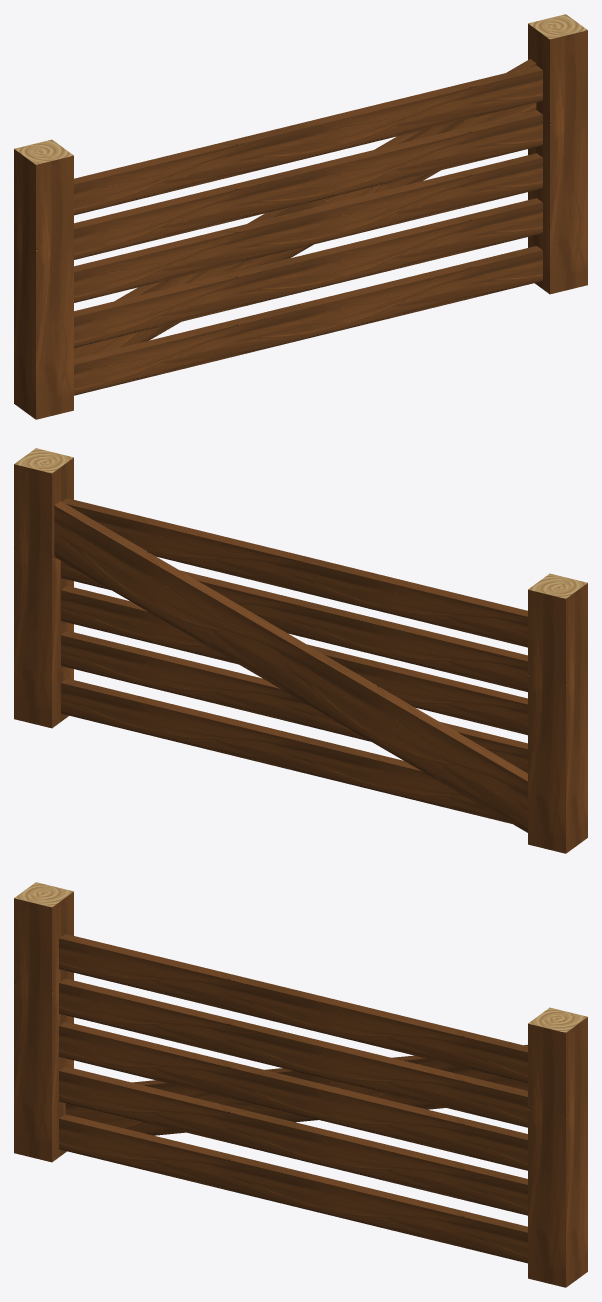
File: Gate.FBX
The picture shows the model from 3 angles, top to bottom: view 1: azimuth 30°, elevation 25°; view 2: azimuth 150°, elevation 25°; view 3: azimuth 330°, elevation 25°; orthographic projection.
Visible parts, largest first — view 1: Gate; view 2: Gate; view 3: Gate.
Boxes of the visible parts, x1,y1,x2,y2 form: Gate: (14, 14, 587, 419); Gate: (14, 448, 587, 853); Gate: (14, 882, 587, 1287).
Bounding box in the file's own units: 43.45 × 19.18 × 3.
